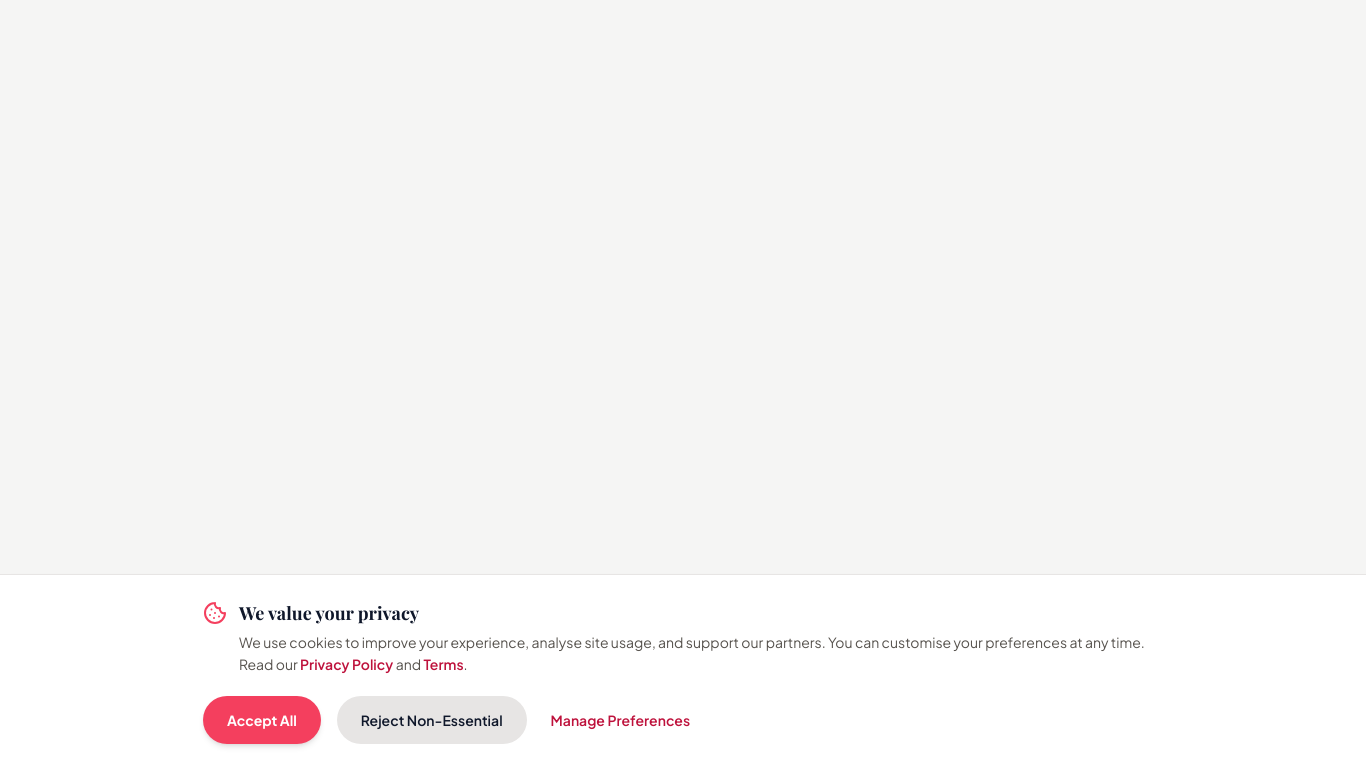
CookieBanner Component › Manage Preferences › clicking manage shows preferences view
The width and height of the screenshot is (1366, 768).
Click the button with test id "cookie-manage".
click(620, 720)  # box [543, 696, 698, 744]
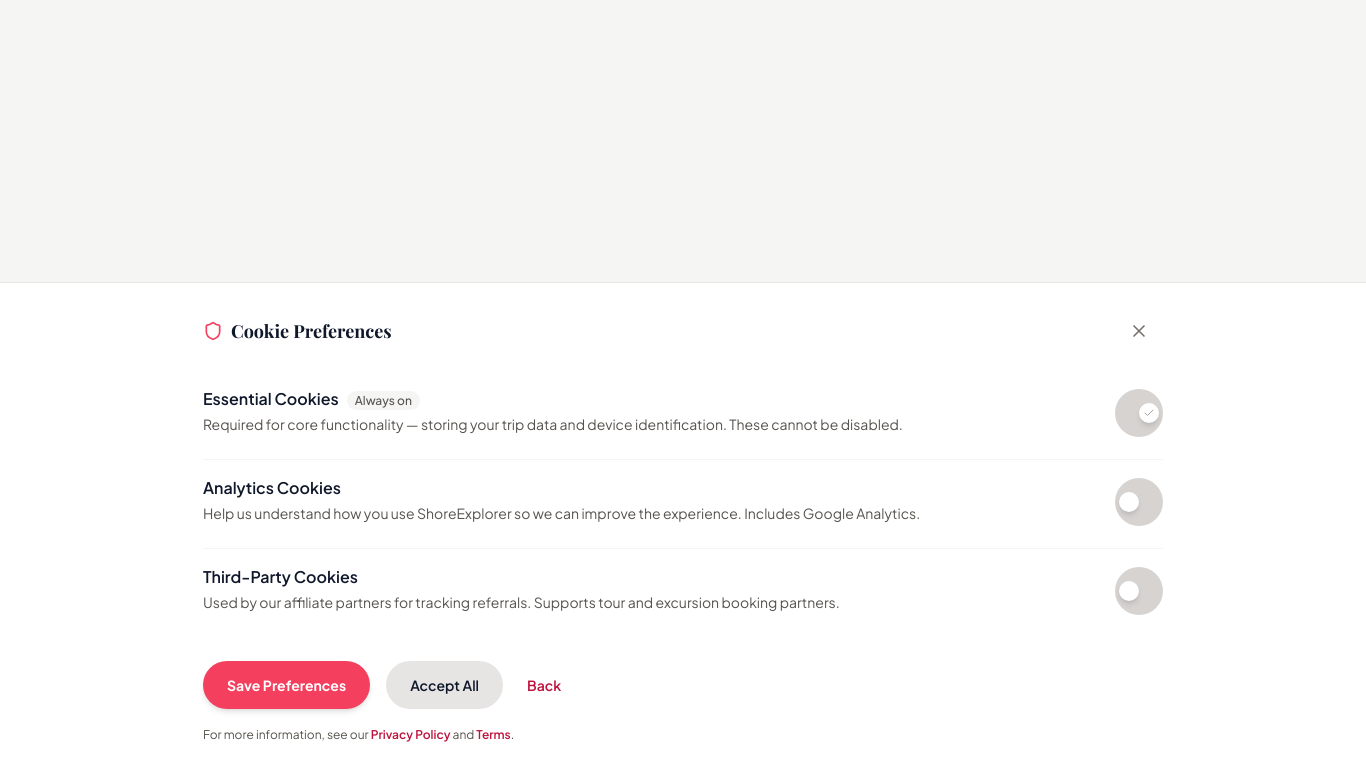
Expected: the heading "Cookie Preferences" is shown, [231, 316, 392, 344]
Expected: the text "Essential Cookies" is shown, [203, 388, 339, 408]
Expected: the text "Analytics Cookies" is shown, [203, 476, 341, 498]
